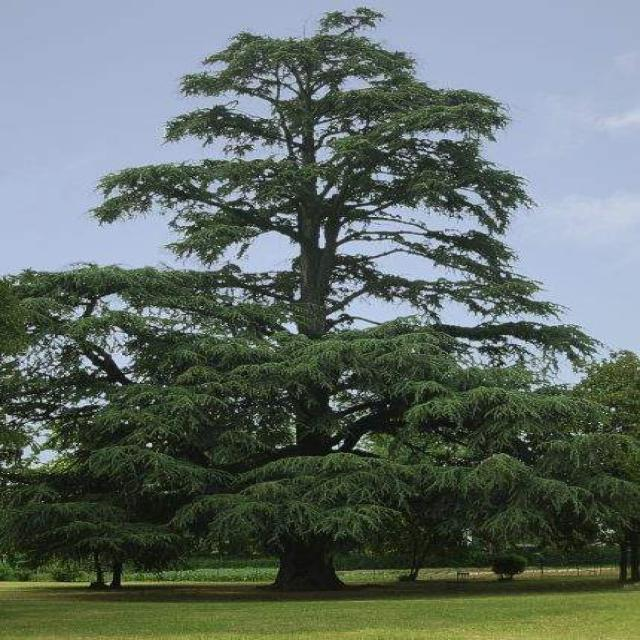cedro: (56, 2, 640, 607)
